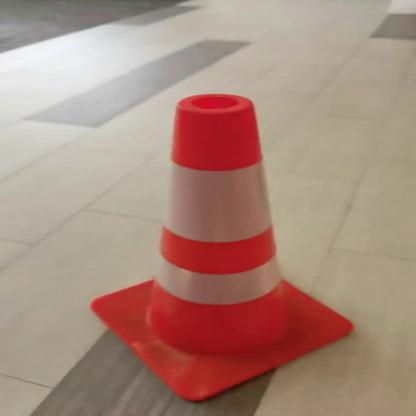cone: (78, 87, 373, 403)
